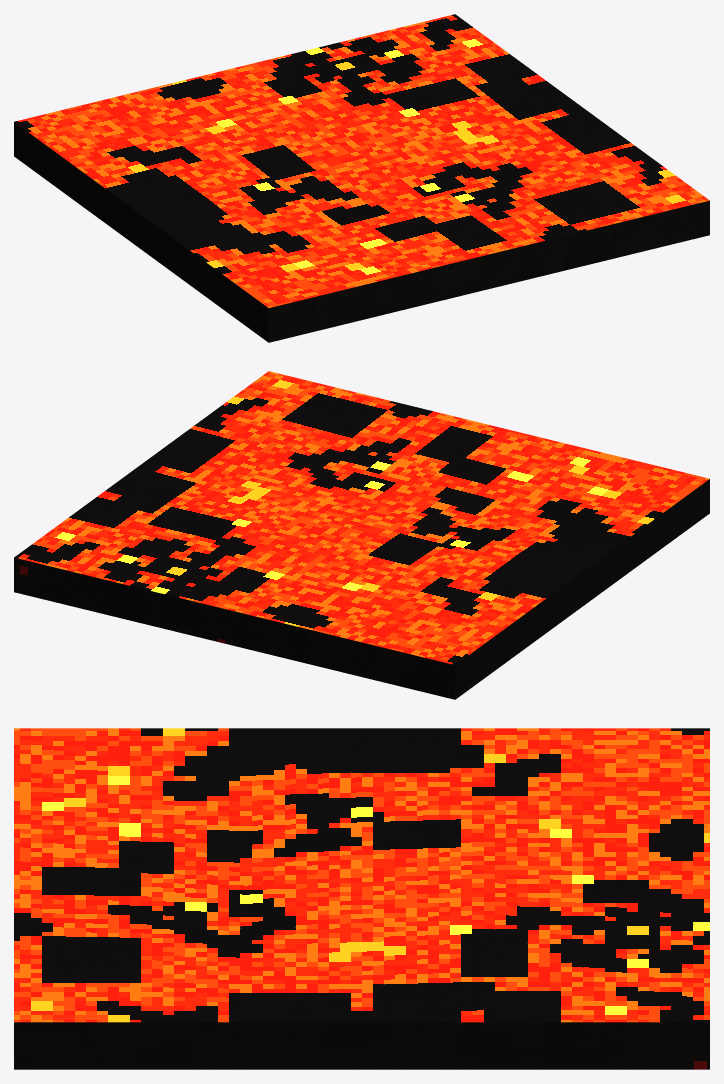
The model's file is lava_tile.glb.
3 renders of one model, top to bottom at view 1: azimuth 30°, elevation 25°; view 2: azimuth 150°, elevation 25°; view 3: azimuth 270°, elevation 25°, orthographic. The views are drawn at different scales.
Parts seen in each view (by area): view 1: LavaTile; view 2: LavaTile; view 3: LavaTile.
Part boxes in pixels (bbox=[...]): LavaTile: bbox=[14, 14, 709, 342]; LavaTile: bbox=[14, 371, 709, 699]; LavaTile: bbox=[14, 728, 709, 1069].
Size of the model in its own units: 4 by 0.3149 by 4.
1 material, 1 textured.
